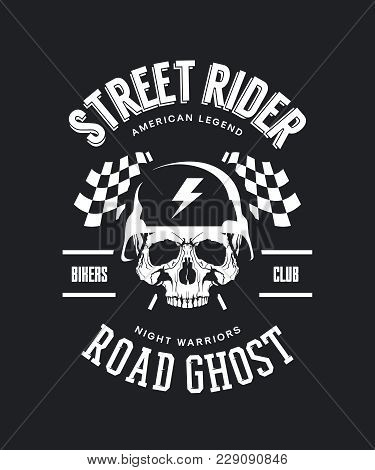with_helmet: (123, 159, 256, 267)
